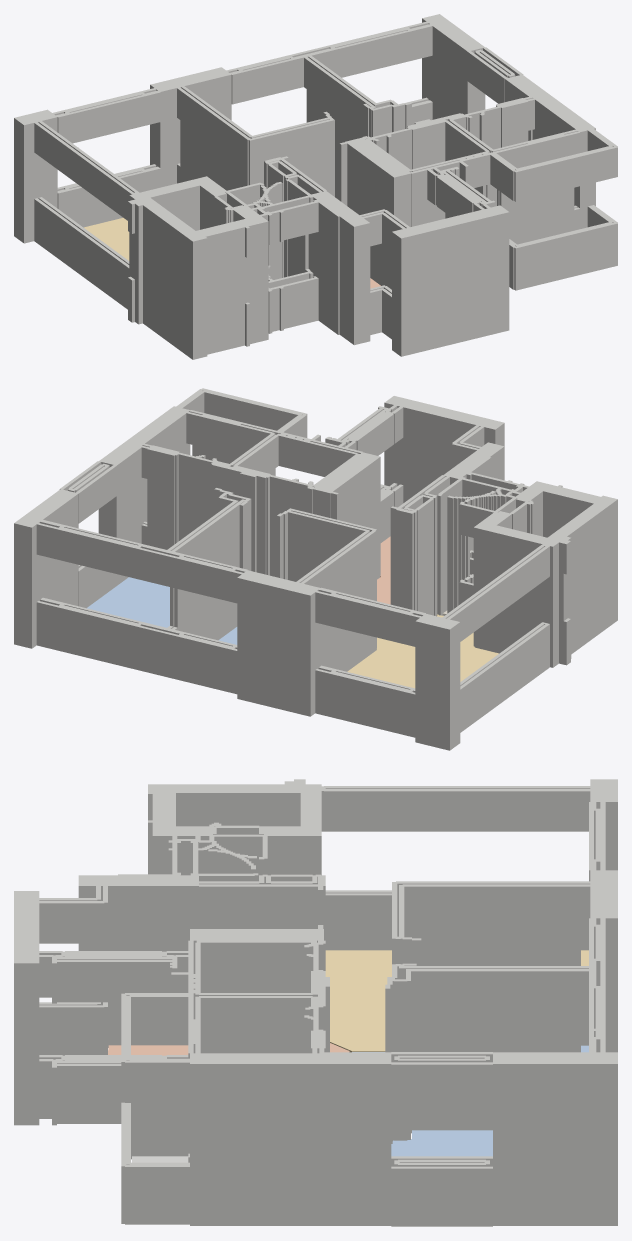
The picture shows the model from 3 angles, top to bottom: view 1: azimuth 30°, elevation 25°; view 2: azimuth 150°, elevation 25°; view 3: azimuth 270°, elevation 25°; orthographic projection. The views are drawn at different scales.
Parts seen in each view (by area): view 1: walls, room:living:0; view 2: walls, room:living:0, room:bedroom:3, room:kitchen:2; view 3: walls, room:living:0, room:bedroom:3, room:kitchen:2.
Boxes of the visible parts, x1,y1,x2,y2 form: walls: [14, 14, 617, 359]; room:living:0: [84, 217, 129, 260]; walls: [14, 388, 617, 750]; room:living:0: [347, 614, 498, 688]; room:bedroom:3: [87, 577, 169, 627]; room:kitchen:2: [377, 536, 390, 604]; walls: [14, 779, 617, 1226]; room:living:0: [325, 950, 588, 1052]; room:bedroom:3: [391, 1130, 492, 1156]; room:kitchen:2: [108, 1043, 349, 1055].
Size of the model in its own units: 10.57 by 2.8 by 9.45.
